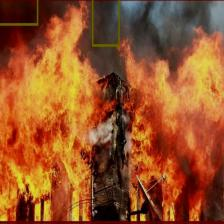fire: (0, 0, 224, 223)
smoke: (92, 0, 119, 46), (0, 0, 38, 25)
